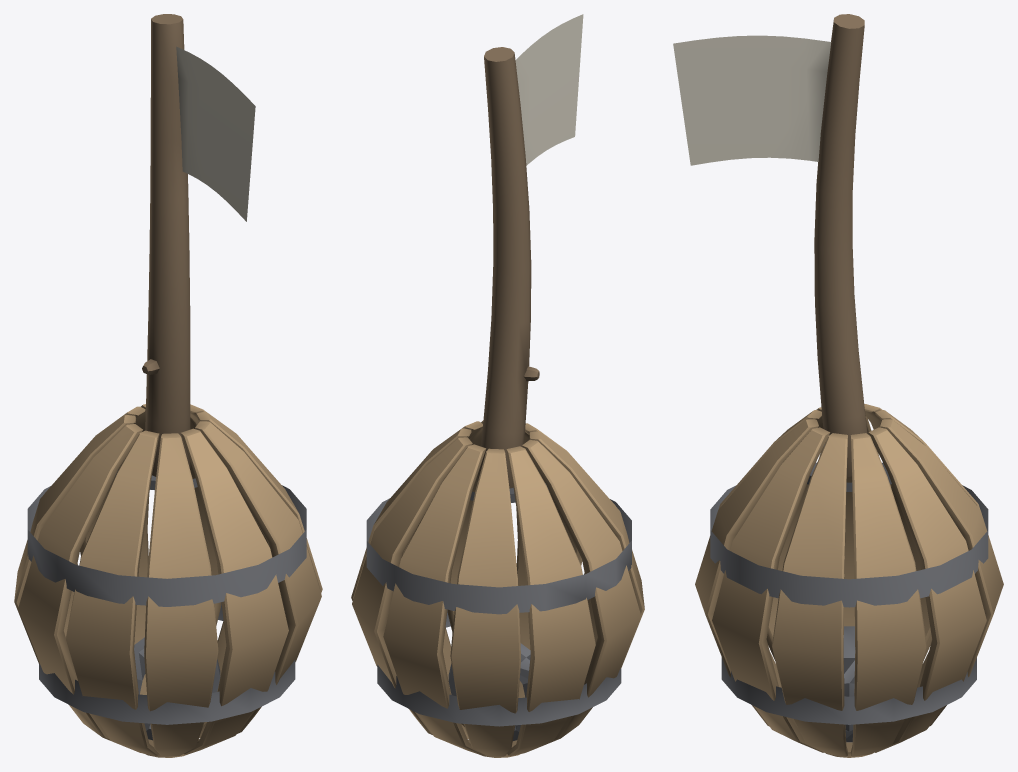
The model's file is buoy.glb.
3 views of the same model, side by side, from view 1: azimuth 30°, elevation 25°; view 2: azimuth 150°, elevation 25°; view 3: azimuth 270°, elevation 25° (orthographic). The views are drawn at different scales.
Visible parts, largest first — view 1: buoy; view 2: buoy; view 3: buoy.
Part boxes in pixels (box(x1,y1,x2,y2)): buoy: box(14, 14, 322, 757); buoy: box(351, 14, 644, 757); buoy: box(673, 14, 1003, 757).
Size of the model in its own units: 0.5896 by 1.54 by 0.6378.
